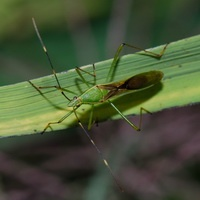insect: (28, 18, 167, 190)
